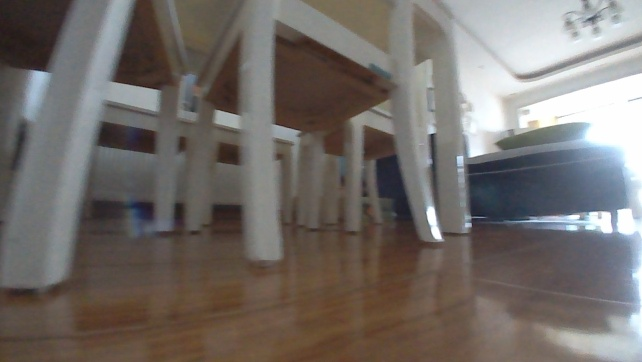dining_table1: (0, 0, 478, 295)
sofa1: (463, 119, 639, 235)
